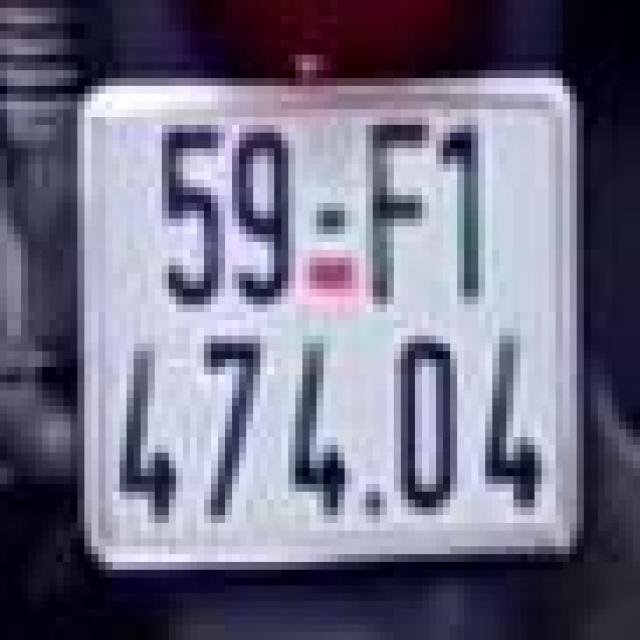0: (387, 332, 464, 519)
1: (432, 117, 496, 312)
4: (274, 332, 366, 527), (109, 336, 193, 538), (468, 328, 552, 523)
5: (148, 113, 239, 324)
7: (193, 328, 271, 538)
9: (225, 113, 302, 316)
F: (355, 105, 440, 316)
